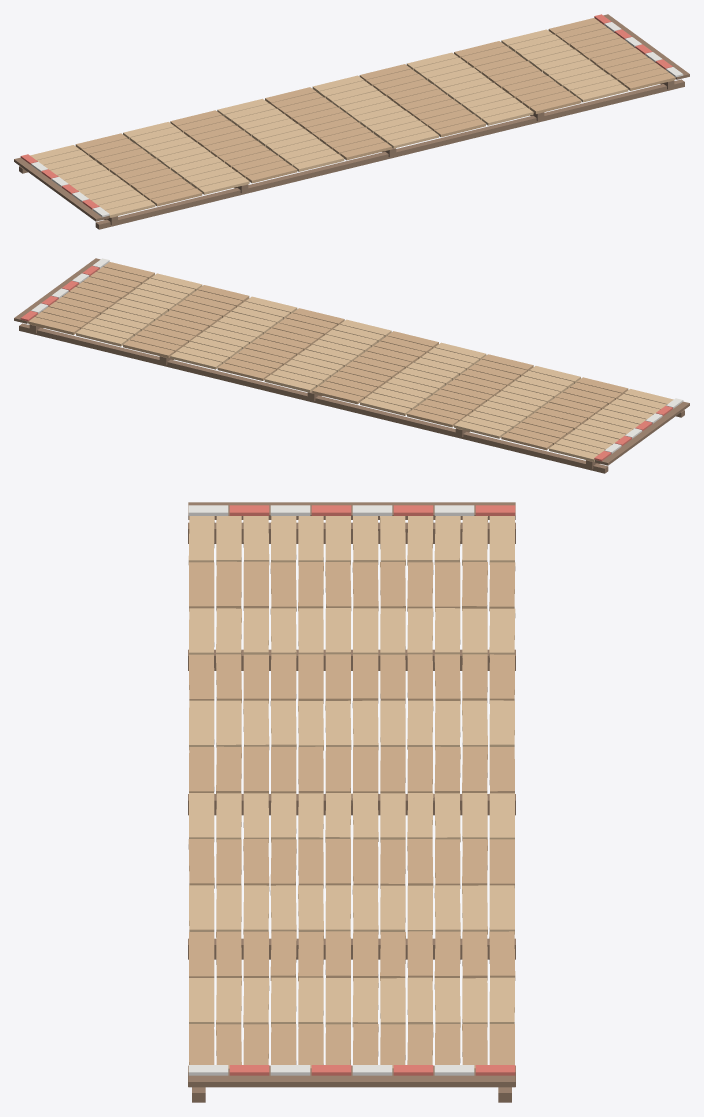
Rendered from SkateDeck.glb.
3 views of the same model, one above another, from view 1: azimuth 30°, elevation 25°; view 2: azimuth 150°, elevation 25°; view 3: azimuth 270°, elevation 25° (orthographic). The views are drawn at different scales.
Visible parts, largest first — view 1: PlanksB, Planks, Beams, CurbWhite, CurbRed; view 2: PlanksB, Planks, Beams, CurbRed, CurbWhite; view 3: Planks, PlanksB, Beams, CurbRed, CurbWhite.
Boxes of the visible parts, x1,y1,x2,y2 form: PlanksB: (75, 18, 675, 206); Planks: (30, 29, 628, 217); Beams: (14, 14, 689, 229); CurbWhite: (31, 22, 683, 217); CurbRed: (20, 14, 672, 209); PlanksB: (28, 262, 628, 450); Planks: (76, 273, 673, 461); Beams: (14, 258, 689, 473); CurbRed: (20, 266, 672, 461); CurbWhite: (31, 258, 683, 453); Planks: (188, 515, 515, 1027); PlanksB: (188, 561, 515, 1069); Beams: (188, 502, 515, 1102); CurbRed: (229, 505, 515, 1075); CurbWhite: (188, 505, 474, 1075).
Size of the model in its own units: 100 by 2.26 by 24.
